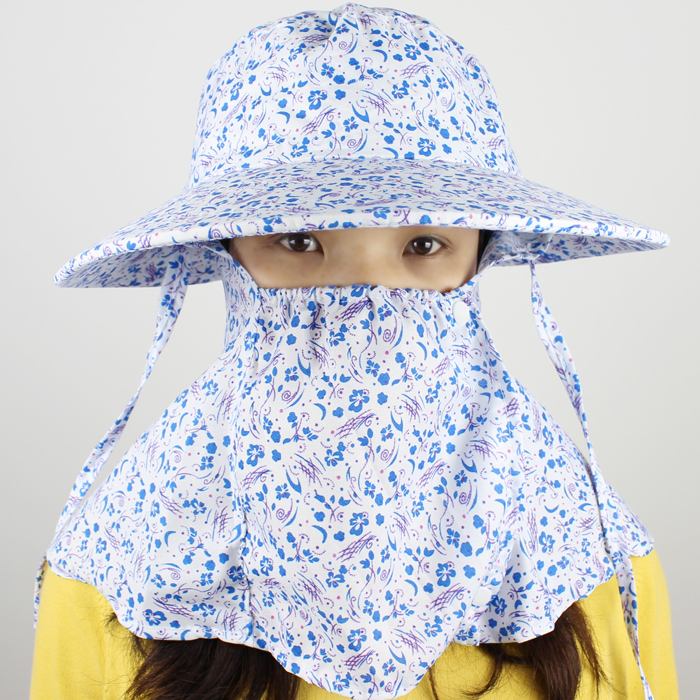face_mask: (231, 127, 481, 431)
